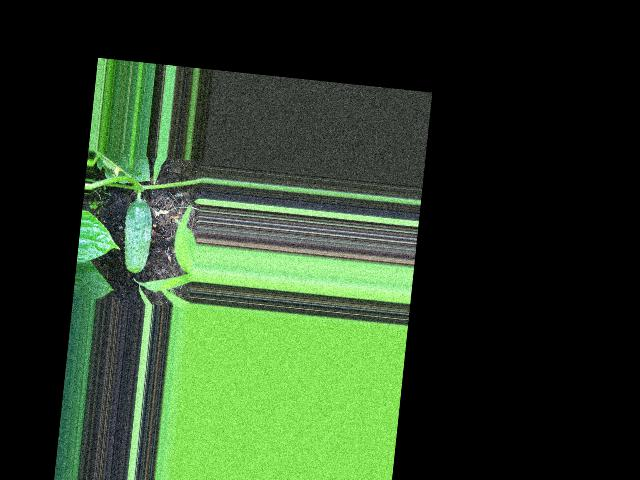cucumber: (120, 198, 155, 275)
